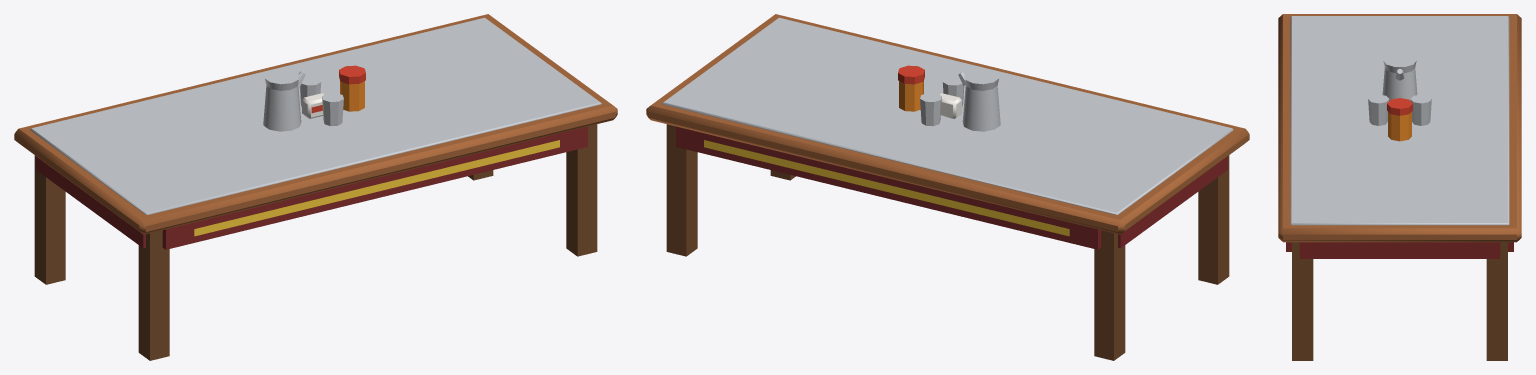
Rendered from dining_table.glb.
3 renders of one model, left to right at view 1: azimuth 30°, elevation 25°; view 2: azimuth 150°, elevation 25°; view 3: azimuth 270°, elevation 25°, orthographic. The views are drawn at different scales.
Visible parts, largest first — view 1: dining_table; view 2: dining_table; view 3: dining_table.
Boxes of the visible parts, x1=… form: dining_table: x1=14, y1=14, x2=617, y2=360; dining_table: x1=646, y1=14, x2=1249, y2=360; dining_table: x1=1278, y1=14, x2=1521, y2=360.
Bounding box in the file's own units: 1.7 × 0.6664 × 0.8.
Materials: 1 (1 with a texture image).
